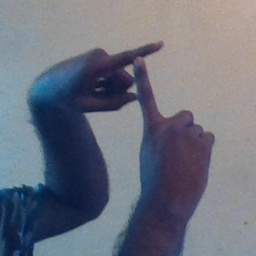T: (78, 31, 191, 147)
